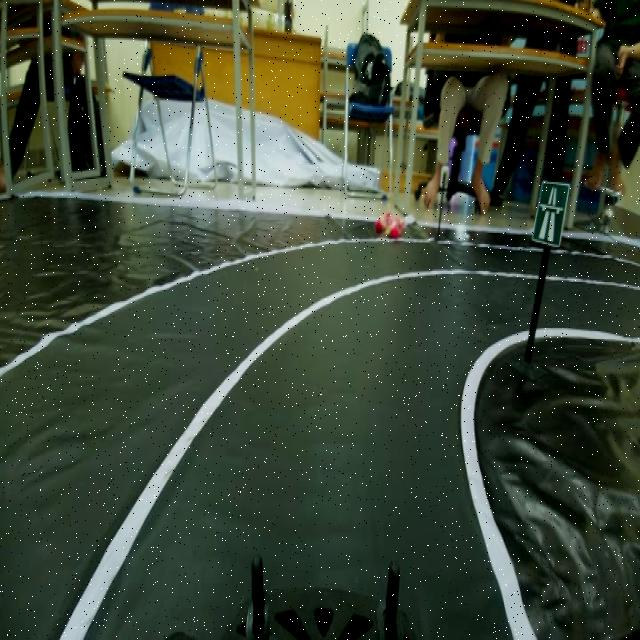highway_entry: (533, 174, 570, 251)
